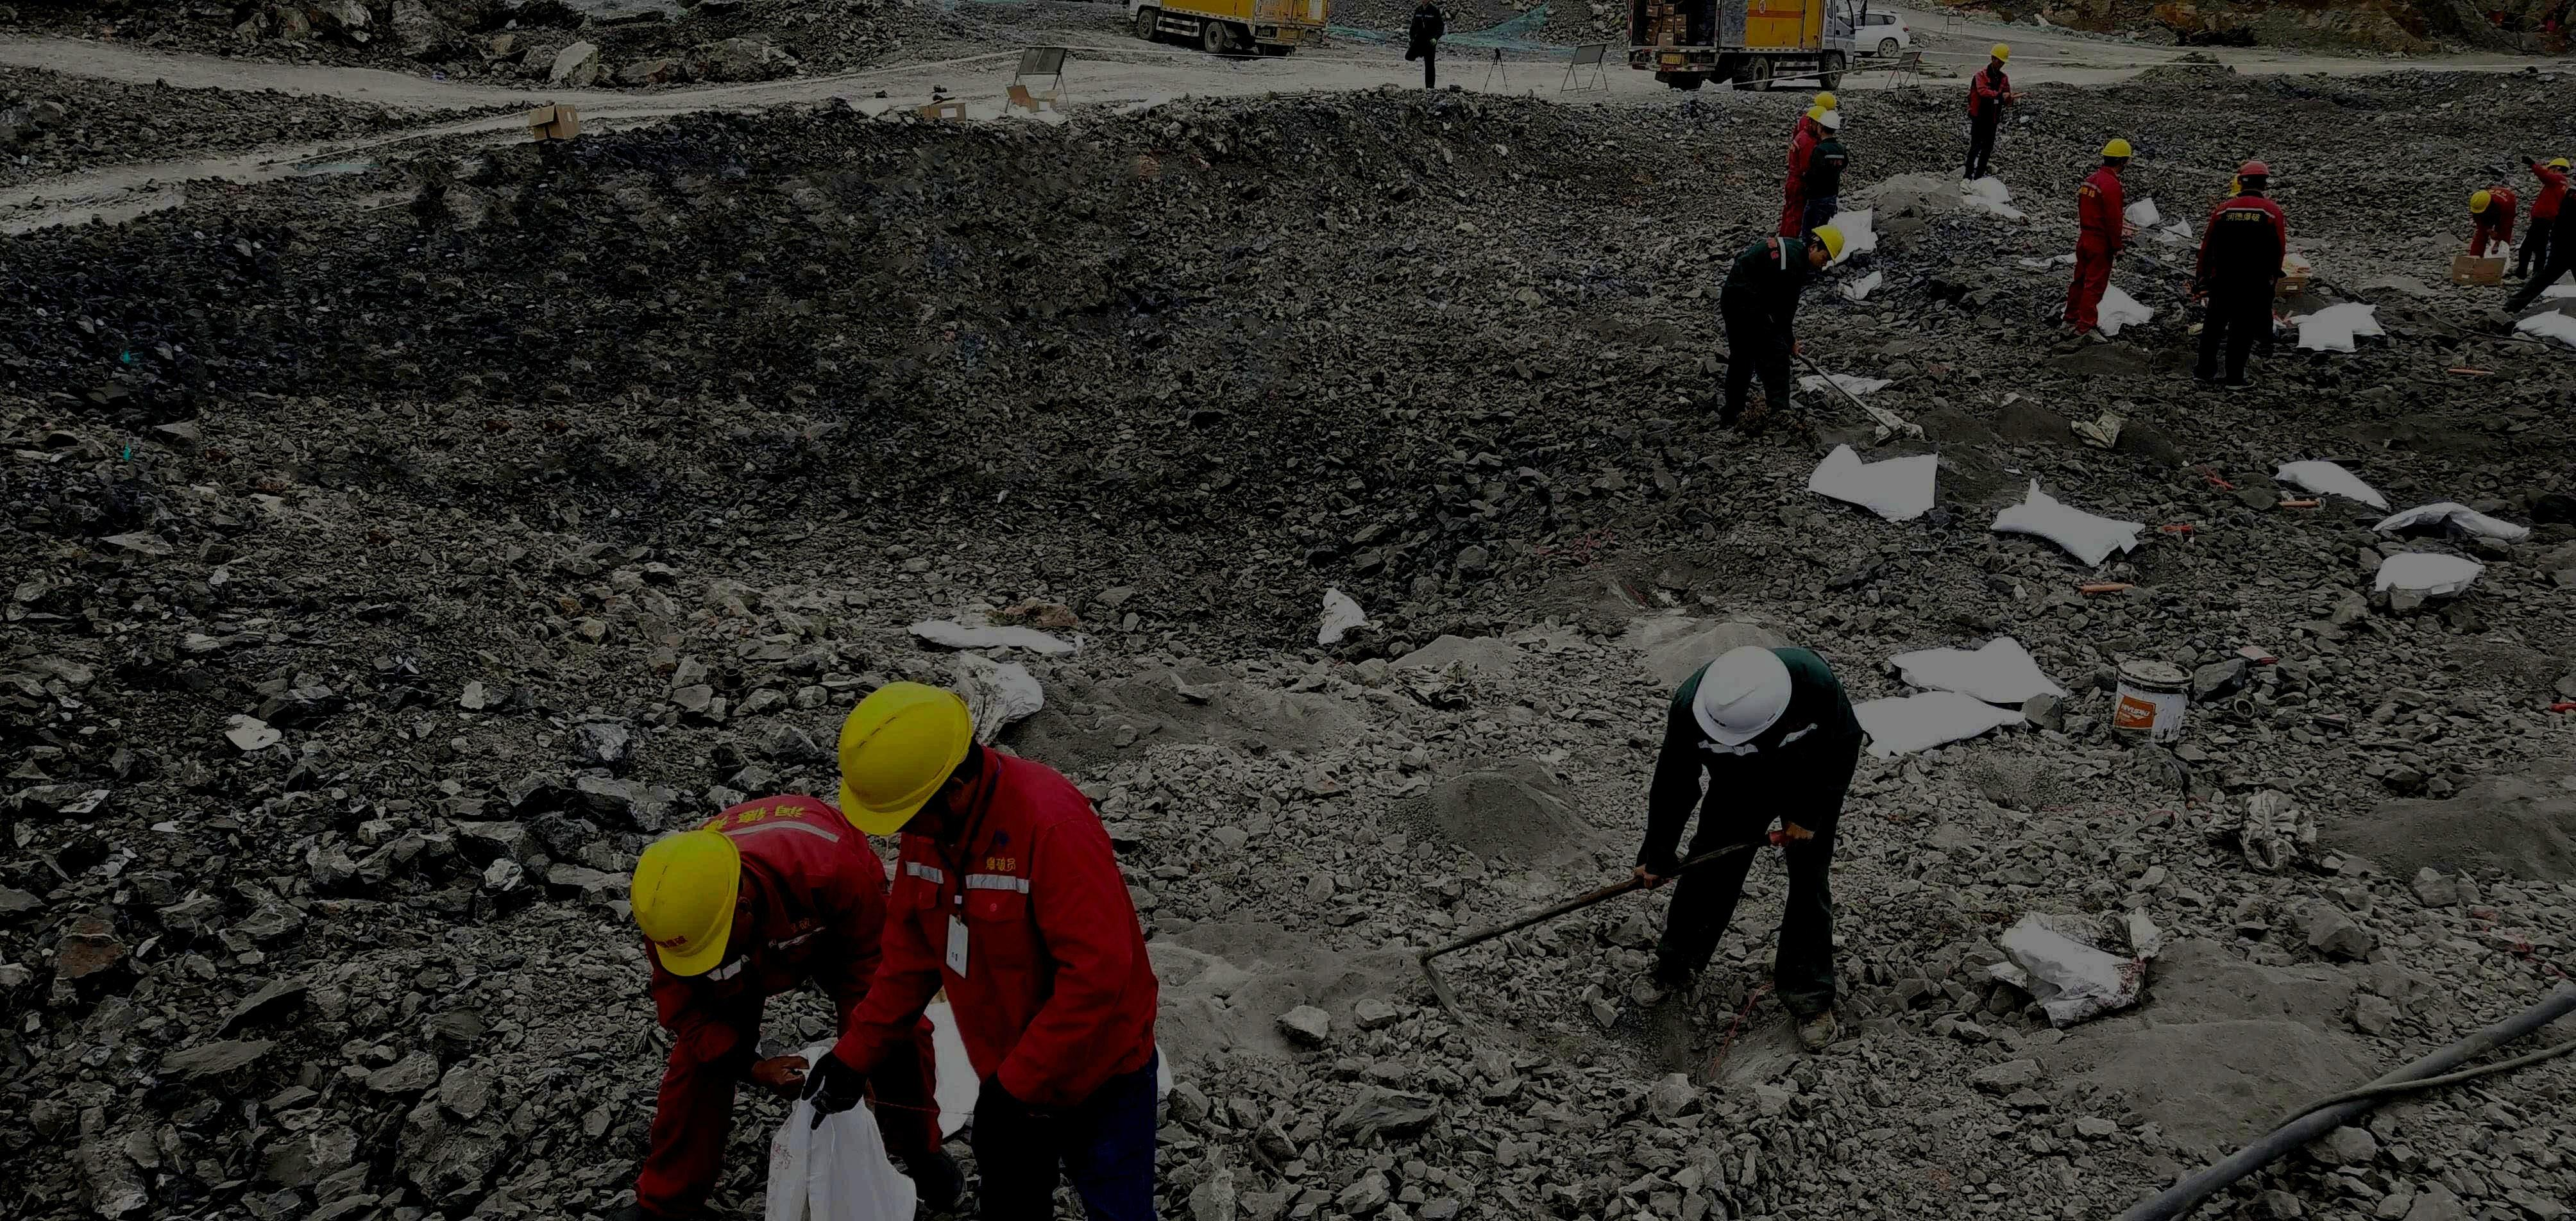helmet: (838, 680, 982, 836), (629, 828, 756, 976), (1692, 644, 1792, 746), (1804, 223, 1845, 270), (2100, 138, 2132, 173), (2236, 159, 2270, 192), (1817, 108, 1840, 138), (1805, 105, 1827, 133), (2469, 189, 2492, 214), (1989, 43, 2009, 71), (1814, 90, 1837, 112), (2546, 158, 2569, 174)
